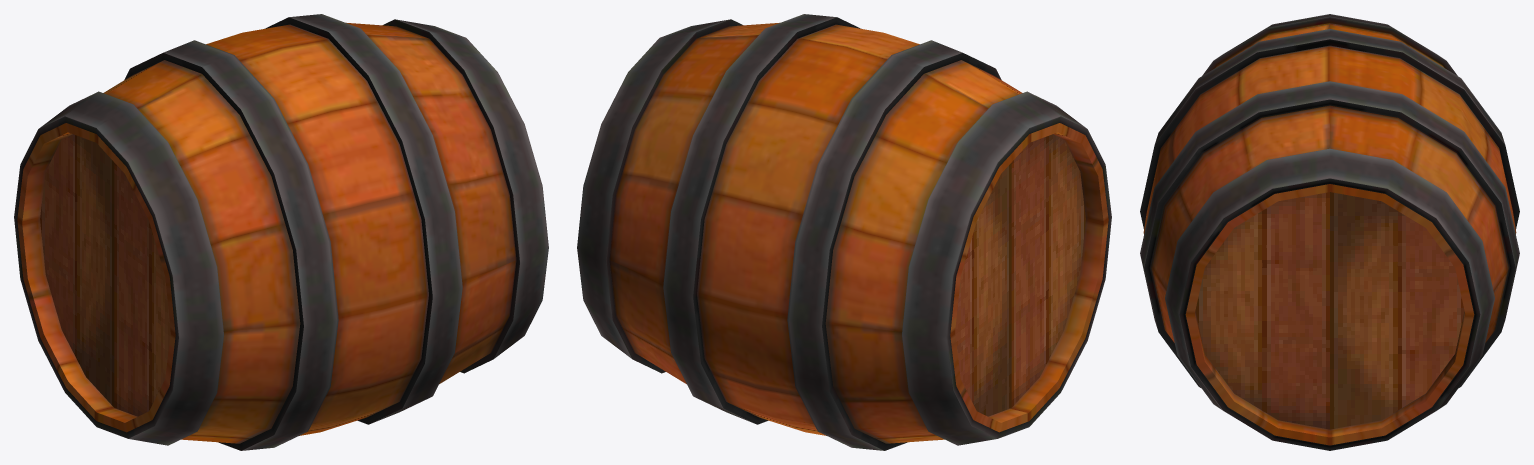
Rendered from Barrel.obj.
3 renders of one model, left to right at view 1: azimuth 30°, elevation 25°; view 2: azimuth 150°, elevation 25°; view 3: azimuth 270°, elevation 25°, orthographic. The views are drawn at different scales.
Parts seen in each view (by area): view 1: default; view 2: default; view 3: default.
Boxes of the visible parts, left/top/right/bottom form: default: left=14, top=14, right=548, bottom=450; default: left=577, top=14, right=1111, bottom=450; default: left=1140, top=14, right=1519, bottom=450.
Bounding box in the file's own units: 400 × 391 × 391.
